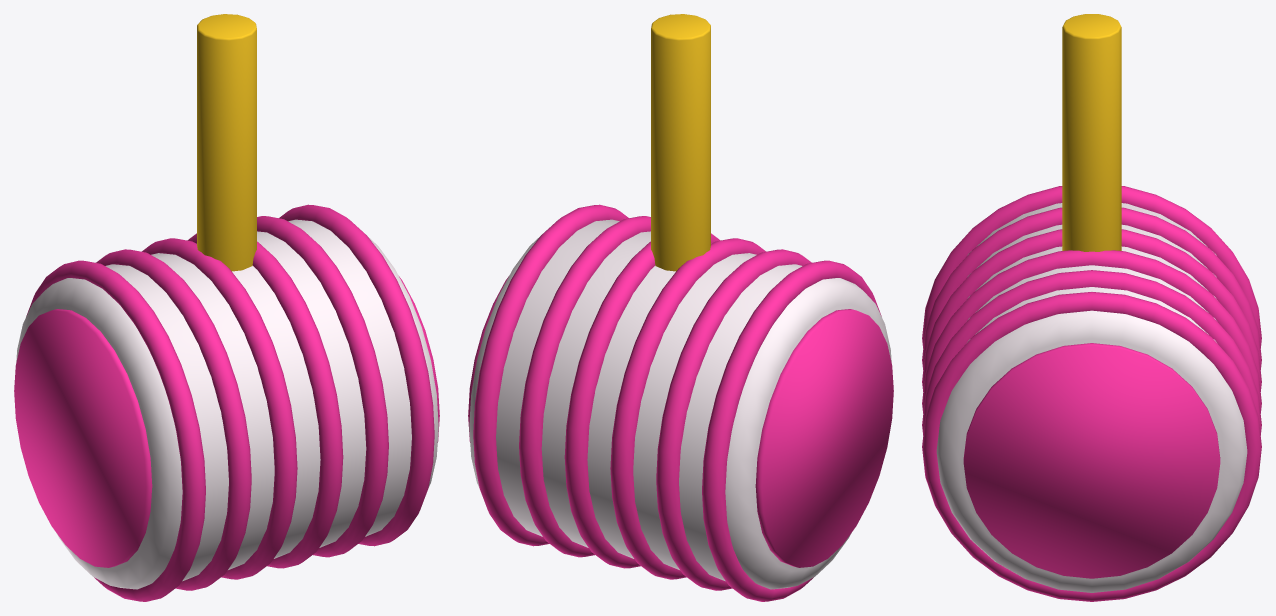
The model's file is palu-permen.glb.
3 views of the same model, side by side, from view 1: azimuth 30°, elevation 25°; view 2: azimuth 150°, elevation 25°; view 3: azimuth 270°, elevation 25° (orthographic). The views are drawn at different scales.
Visible parts, largest first — view 1: Cylinder, Cylinder.001, Cylinder.003, Torus.014, Torus.015, Torus.019, Torus.016, Torus.018, Torus.017; view 2: Cylinder, Cylinder.001, Cylinder.003, Torus.014, Torus.015, Torus.019, Torus.016, Torus.018, Torus.017; view 3: Cylinder.002, Cylinder, Torus.019, Cylinder.003, Torus.018, Torus.017, Torus.016, Torus.015, Torus.014.
Boxes of the visible parts, x1,y1,x2,y2 form: Cylinder: [16, 219, 438, 589]; Cylinder.001: [14, 309, 152, 567]; Cylinder.003: [197, 14, 256, 271]; Torus.014: [26, 260, 205, 601]; Torus.015: [96, 249, 251, 590]; Torus.019: [279, 204, 434, 546]; Torus.016: [142, 238, 297, 579]; Torus.018: [257, 216, 388, 557]; Torus.017: [187, 233, 343, 568]; Cylinder: [469, 219, 891, 589]; Cylinder.001: [755, 309, 893, 567]; Cylinder.003: [651, 14, 710, 271]; Torus.014: [702, 260, 881, 601]; Torus.015: [656, 249, 811, 590]; Torus.019: [473, 204, 628, 546]; Torus.016: [610, 238, 765, 579]; Torus.018: [519, 216, 650, 557]; Torus.017: [564, 233, 720, 568]; Cylinder.002: [963, 343, 1220, 578]; Cylinder: [936, 203, 1247, 592]; Torus.019: [922, 292, 1261, 601]; Cylinder.003: [1062, 14, 1121, 251]; Torus.018: [922, 270, 1261, 435]; Torus.017: [922, 250, 1261, 413]; Torus.016: [922, 229, 1261, 391]; Torus.015: [922, 207, 1261, 369]; Torus.014: [922, 186, 1261, 348].
Size of the model in its own units: 3.34 by 5.82 by 3.44.
